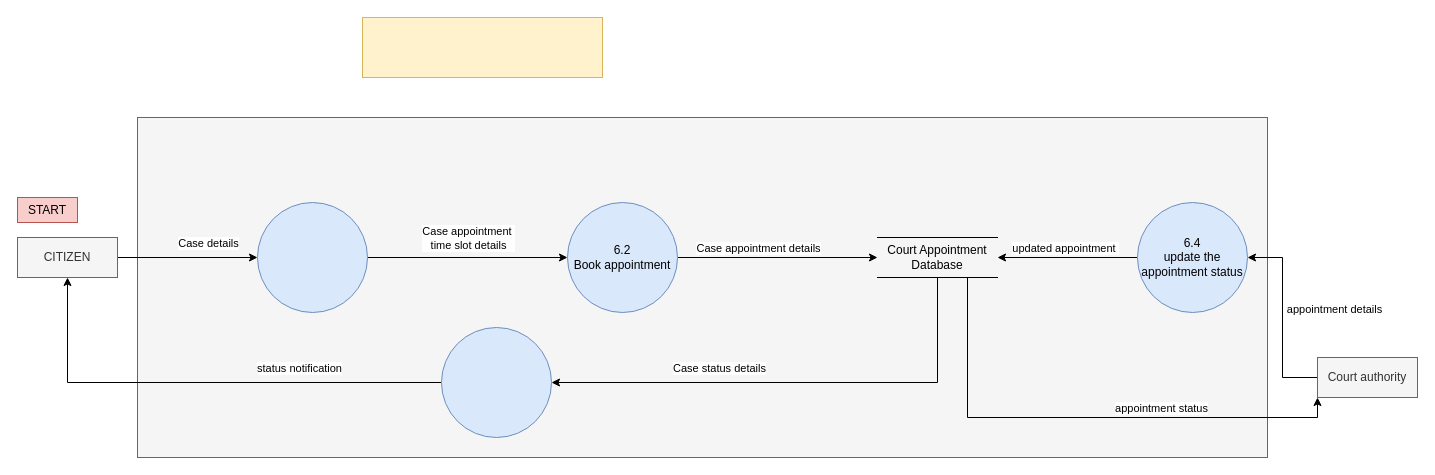
Image size: 1435x475. Some labels were removed from this diagram. The shapes that lost their labels are listed below. From the top down, each one's box as (x1, y1, x2, y2) in pixels, then its label:
(362, 16, 602, 78): LEVEL 2 DIAGRAM FOR 6 Court Appointments
(256, 202, 368, 312): 6.1 Case Registration
(440, 326, 552, 438): 6.3 Case appointment notification
